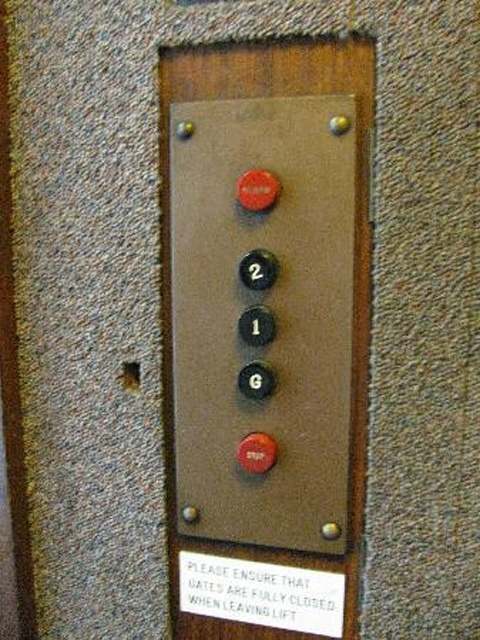1: (234, 302, 280, 349)
2: (236, 246, 282, 293)
G: (235, 358, 278, 403)
blur: (234, 165, 284, 217), (234, 428, 281, 477)
